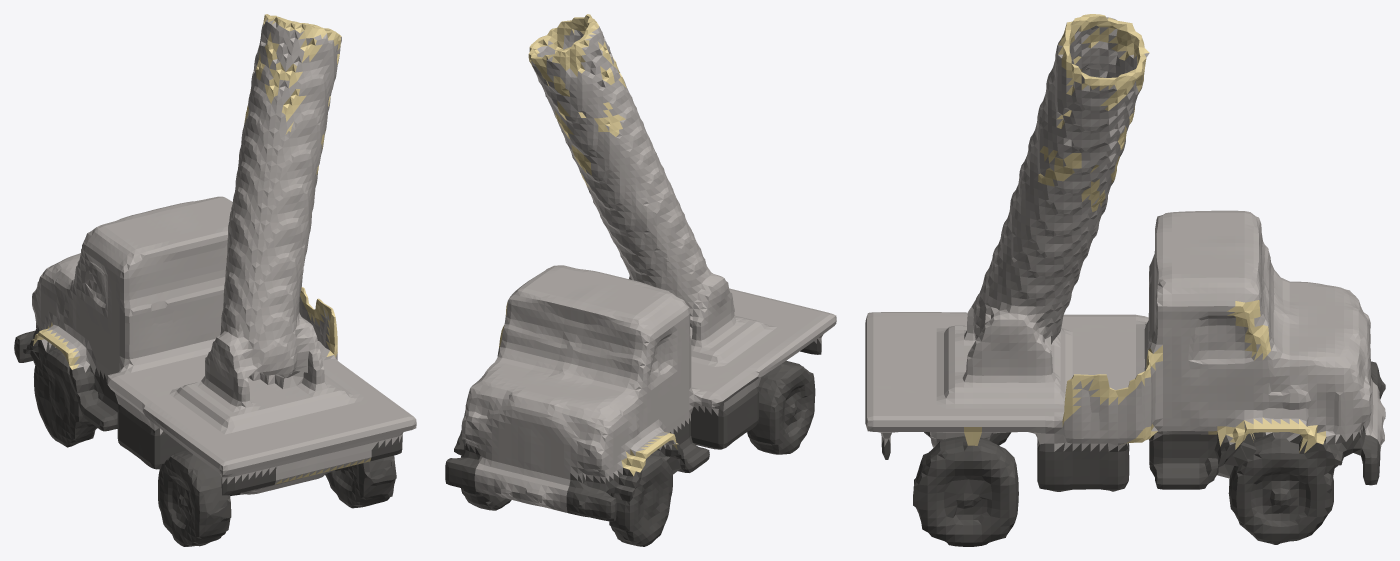
Rendered from unit_stovepipe.glb.
3 views of the same model, side by side, from view 1: azimuth 30°, elevation 25°; view 2: azimuth 150°, elevation 25°; view 3: azimuth 270°, elevation 25° (orthographic). The views are drawn at different scales.
Visible parts, largest first — view 1: Mesh_0.067; view 2: Mesh_0.067; view 3: Mesh_0.067.
Boxes of the visible parts, box(x1,y1,x2,y2) form: Mesh_0.067: box(14, 14, 416, 546); Mesh_0.067: box(445, 14, 836, 546); Mesh_0.067: box(865, 14, 1385, 546).
Bounding box in the file's own units: 1.49 × 2.94 × 2.7.
